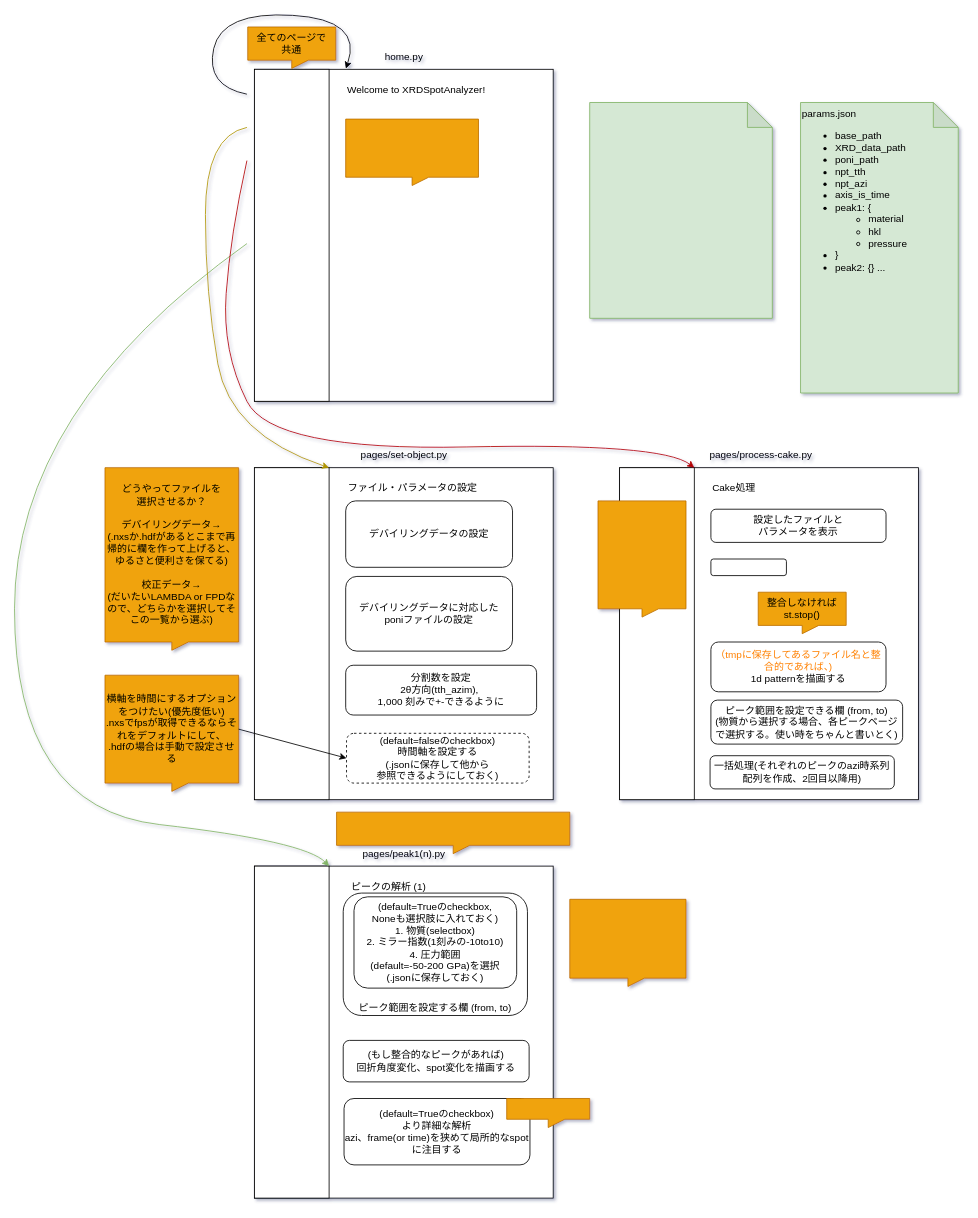
Image size: 978x1218. Some labels were removed from this diagram. Each missing label, with the centre of its shape:
cake_and_pattern.hdf entry/ pattern cake peaks/ peak1 peak2 peak3 peak4 peak5: point (680, 210)
Home Set file & params Cake (ここで 下線が 引けるとうれしい) Peak 1 ... Peak n: point (291, 234)
Noneもいれておけば、default=Trueでも "自分で設定" にすぐたどり着ける: point (627, 942)
nは一番上で決めて、タイトルも含めて これを変えればいいようにしておく: point (453, 832)
このページ ←にまとめても いいかも？ 一括でのピーク設定・その閲覧もできるので、このページは独立させる: point (641, 558)
これまだ粗い: point (548, 1113)
処理開始ボタン: point (748, 567)
説明書き データの流れの説明のために作った図とかも表示できるといい: point (411, 152)
